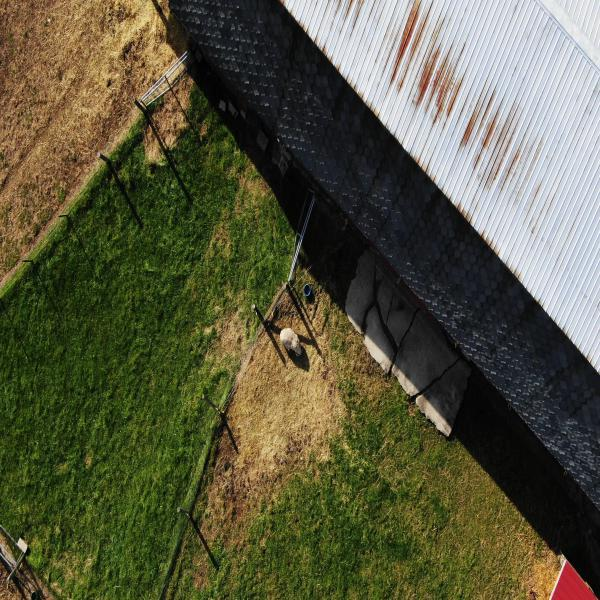sheep: (277, 323, 308, 361)
